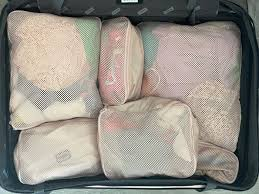suitcase: (1, 1, 258, 192)
